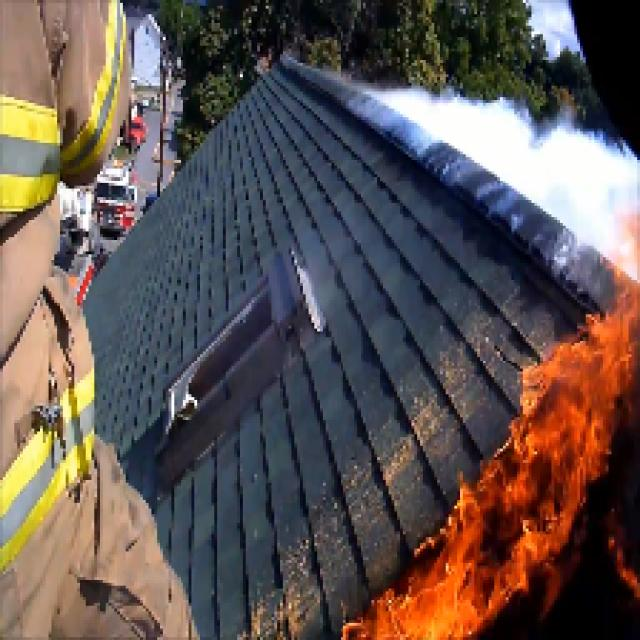fire: (527, 305, 640, 470), (452, 476, 566, 602), (375, 602, 477, 640)
